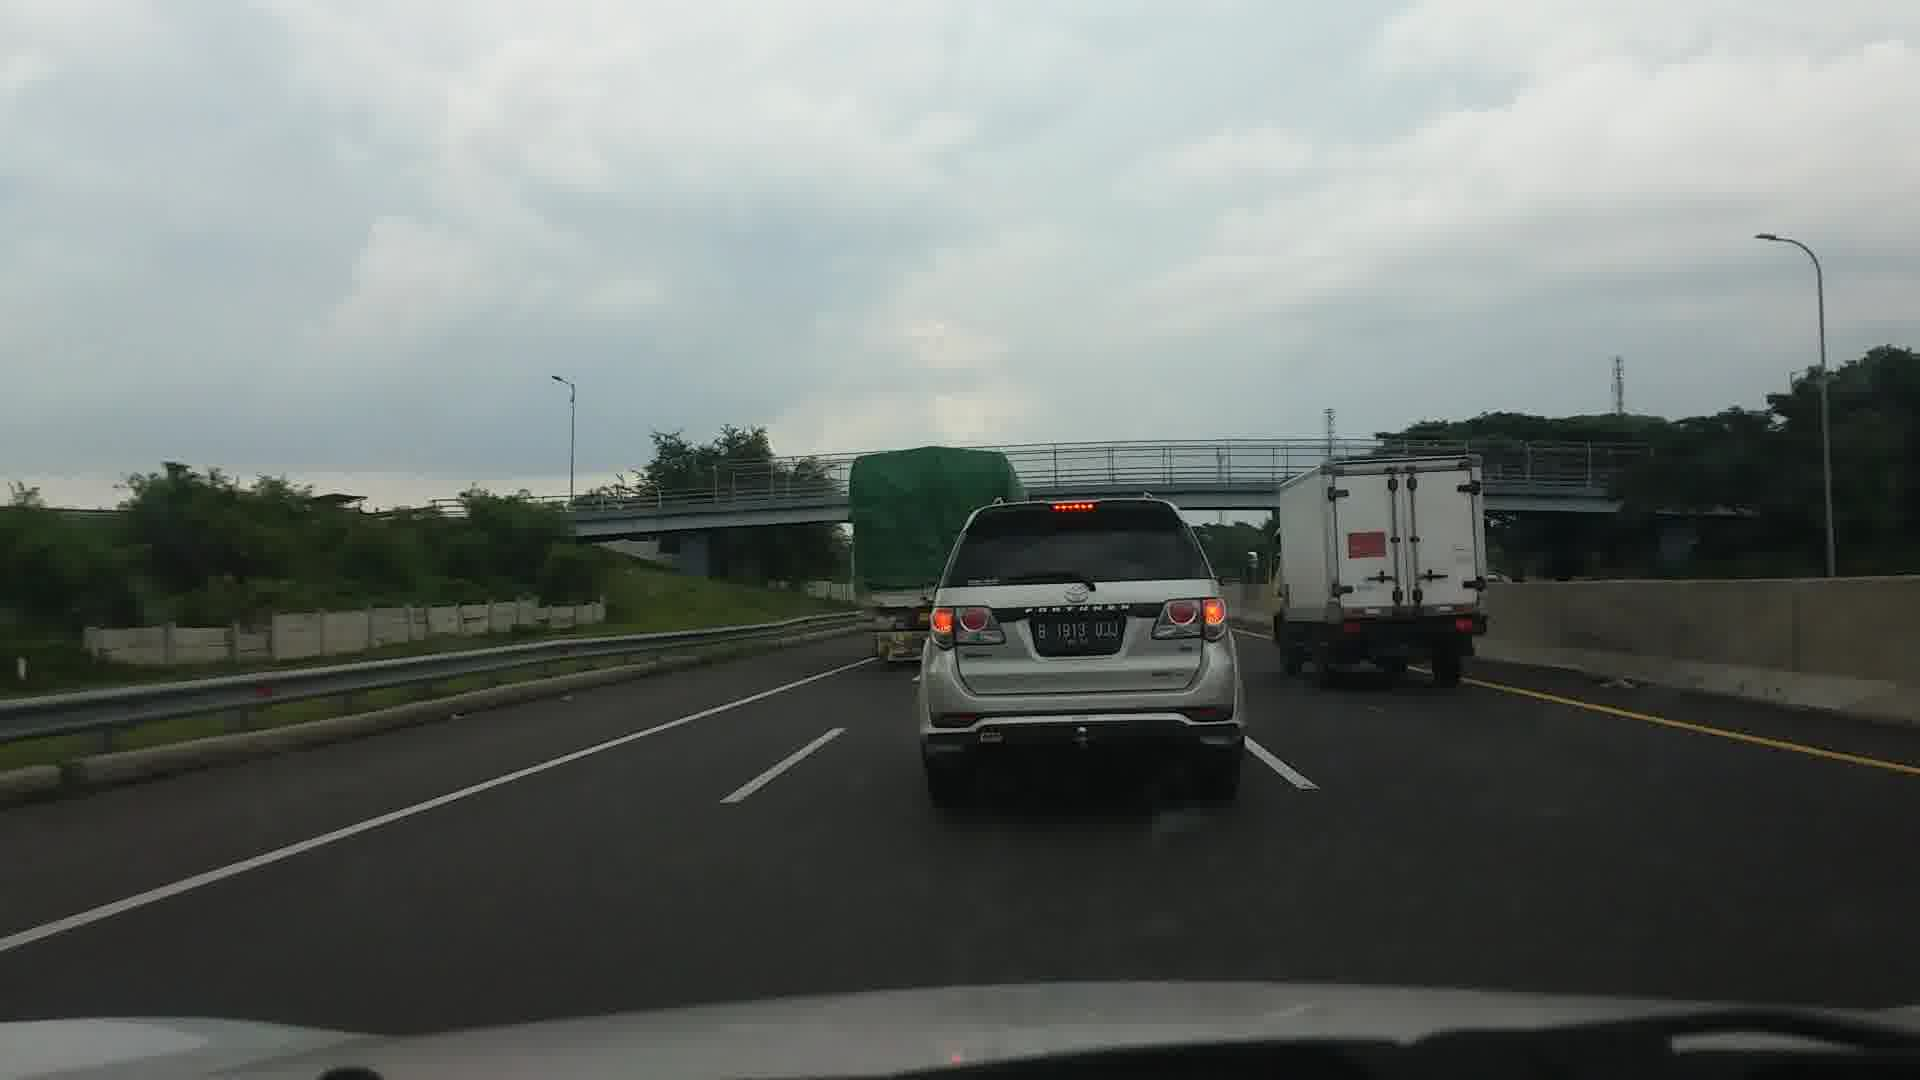plate_positive: (1035, 618, 1122, 650)
